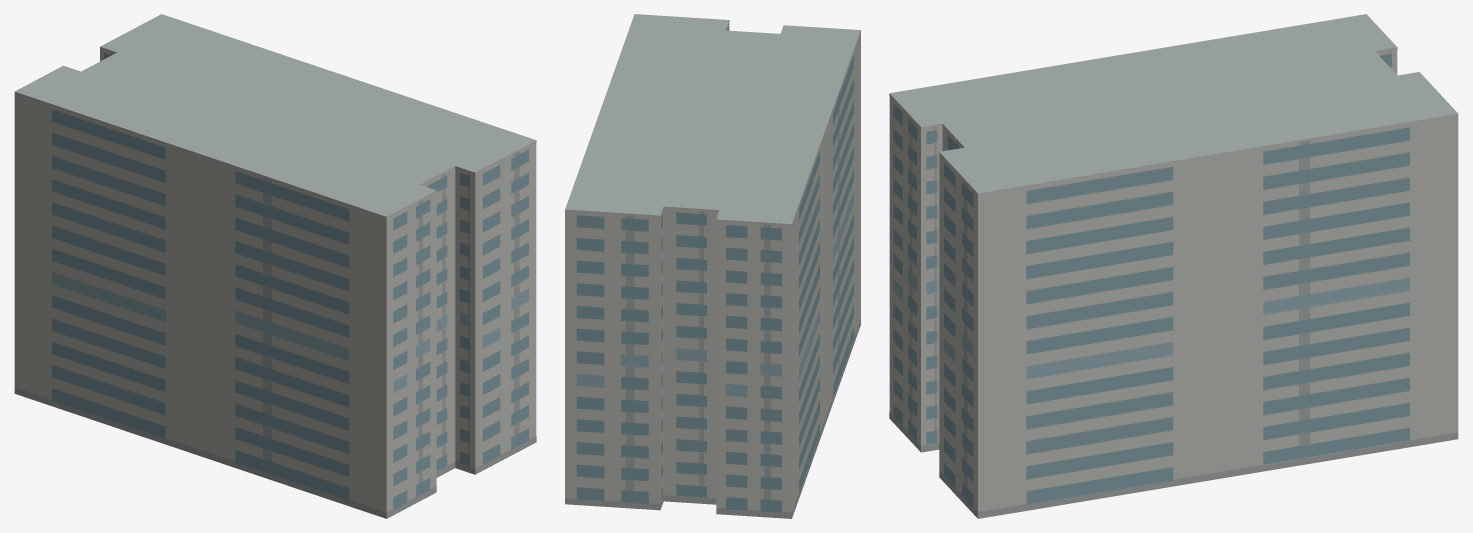
Rendered from residential-dae96115-f61b-407c-abb8-3f555a50e4fa.glb.
3 renders of one model, left to right at view 1: azimuth 30°, elevation 25°; view 2: azimuth 150°, elevation 25°; view 3: azimuth 270°, elevation 25°, orthographic. The views are drawn at different scales.
Visible parts, largest first — view 1: residential-dae96115-f61b-407c-abb8-3f555a50e4fa.tmp; view 2: residential-dae96115-f61b-407c-abb8-3f555a50e4fa.tmp; view 3: residential-dae96115-f61b-407c-abb8-3f555a50e4fa.tmp.
Boxes of the visible parts, x1,y1,x2,y2 form: residential-dae96115-f61b-407c-abb8-3f555a50e4fa.tmp: (14, 14, 536, 518); residential-dae96115-f61b-407c-abb8-3f555a50e4fa.tmp: (565, 14, 860, 518); residential-dae96115-f61b-407c-abb8-3f555a50e4fa.tmp: (889, 14, 1458, 518).
Bounding box in the file's own units: 41.42 × 35 × 55.47.
